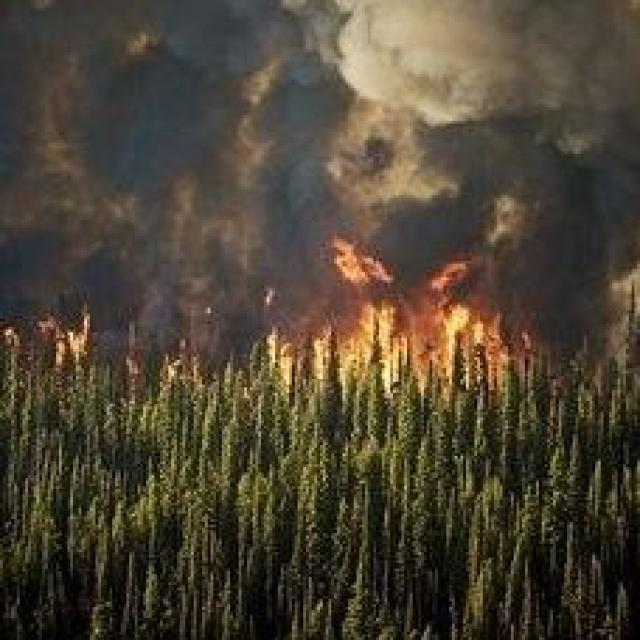Fire: (300, 262, 514, 398), (27, 304, 109, 373)
Smoke: (5, 0, 640, 329)
